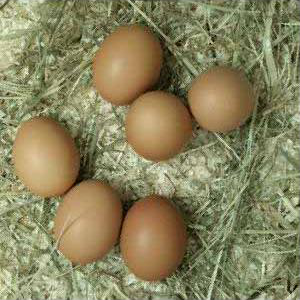egg: (54, 179, 123, 266), (119, 195, 187, 282), (93, 26, 163, 105), (13, 117, 80, 197), (124, 90, 192, 160), (187, 67, 254, 132)
